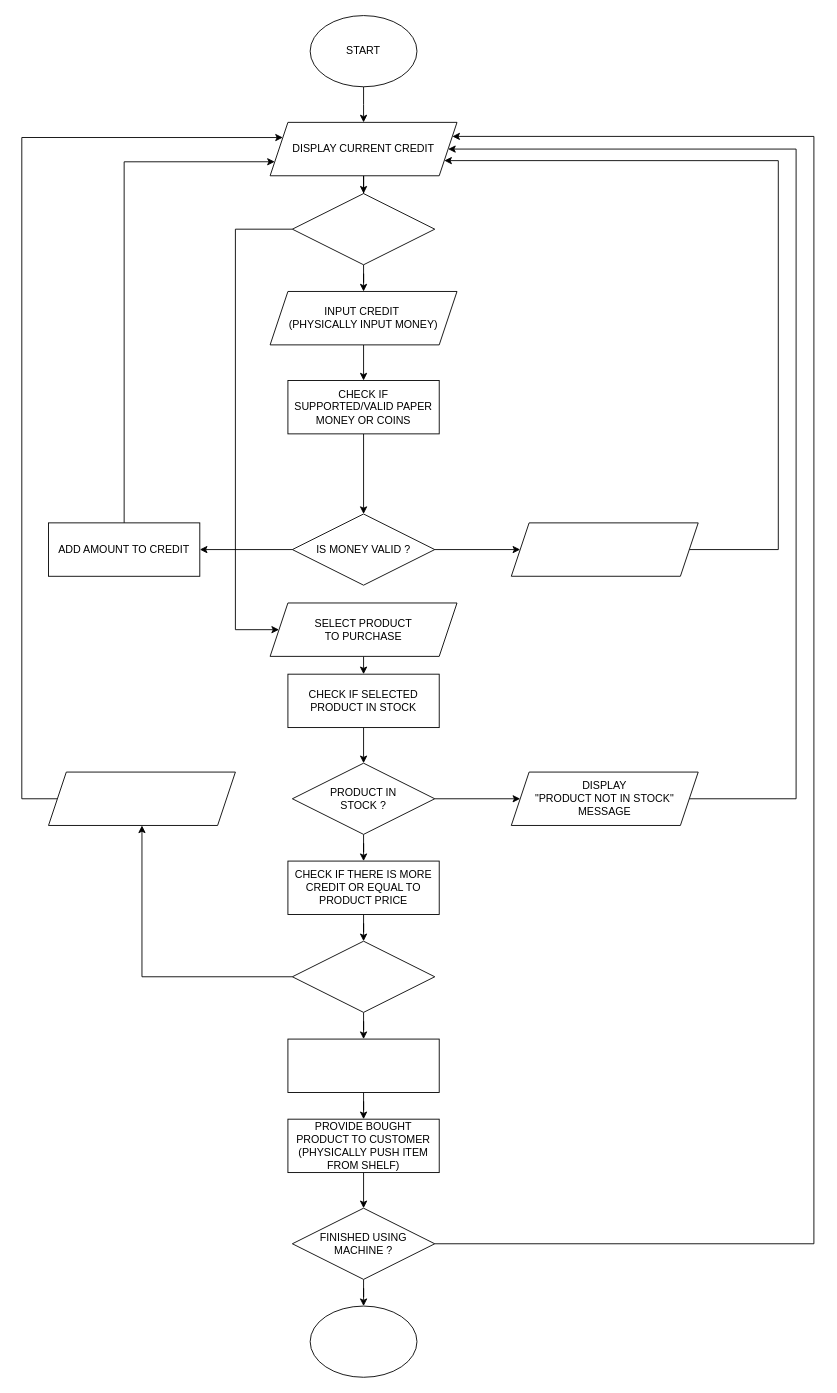
The diagram is 837 pixels wide and 1393 high, and some of its shapes have lost their labels. The shapes that lost their labels are listed below. From the top down, each one's centre as x and y in pixels, then its label:
(x=363, y=229): FINISHED INSERTING CREDIT ?
(x=604, y=549): DISPLAY "MONEY NOT VALID" MESSAGE
(x=141, y=798): DISPLAY "NOT ENOUGH CREDIT" MESSAGE
(x=363, y=976): IS THERE ENOUGH CREDIT ?
(x=363, y=1065): SUSBTRACT CREDIT EQUAL TO PRODUCT PRICE FROM CURRENT CREDIT
(x=363, y=1341): END
